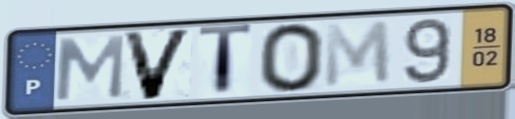9: (398, 16, 455, 85)
M: (51, 33, 128, 103), (322, 18, 394, 91)
O: (256, 20, 327, 95)
T: (196, 21, 256, 100)
V: (119, 27, 197, 104)
